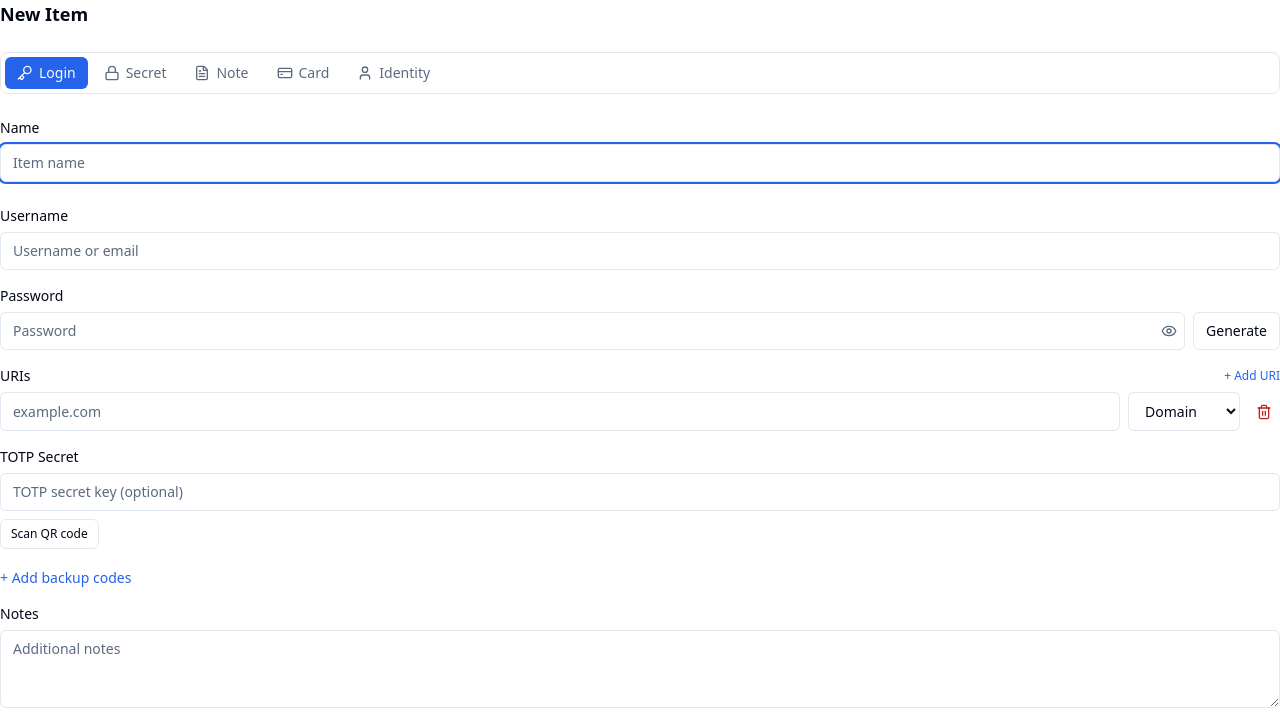
Test: VaultItemForm — login payload › rejects a URI whose scheme is not http/https/mailto
Type "FTP box" into the field with placeholder "Item name".
click(640, 163); type("FTP box")  # box [0,144,1279,182]
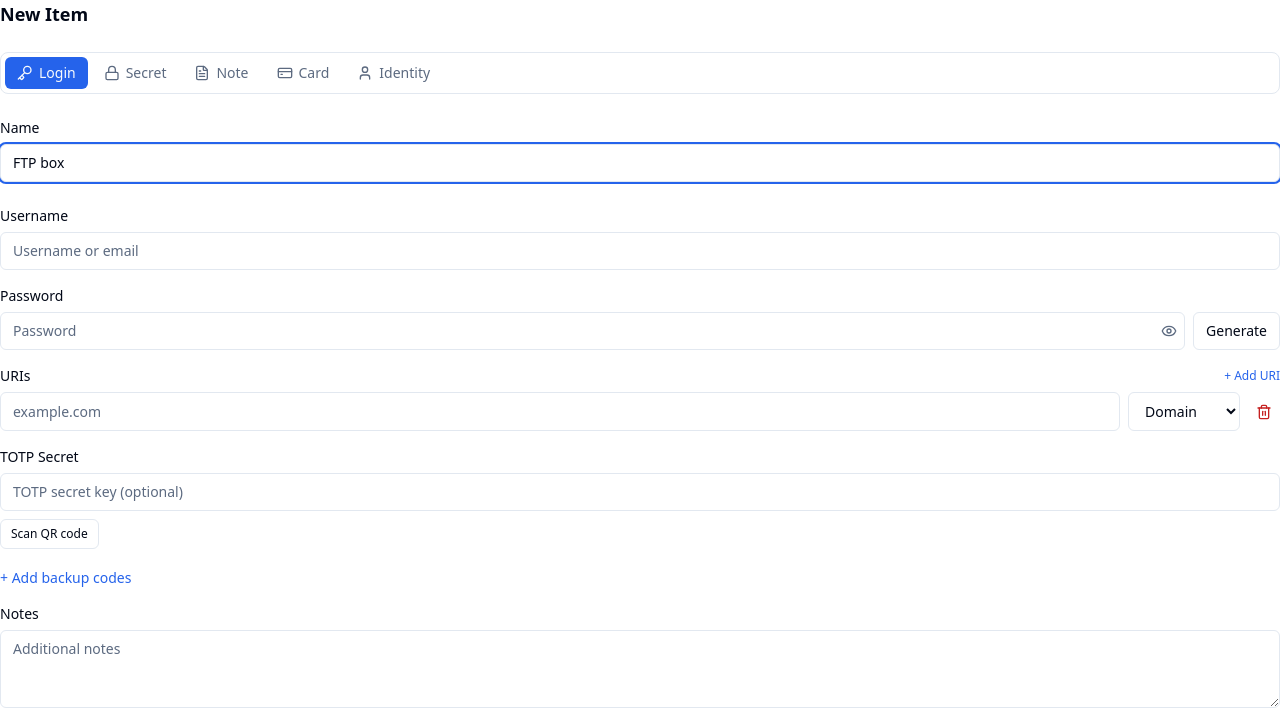
Type "ftp://files.example.com" into the field with placeholder "example.com".
click(560, 412); type("ftp://files.example.com")  # box [0,392,1120,431]
(page scrolled)
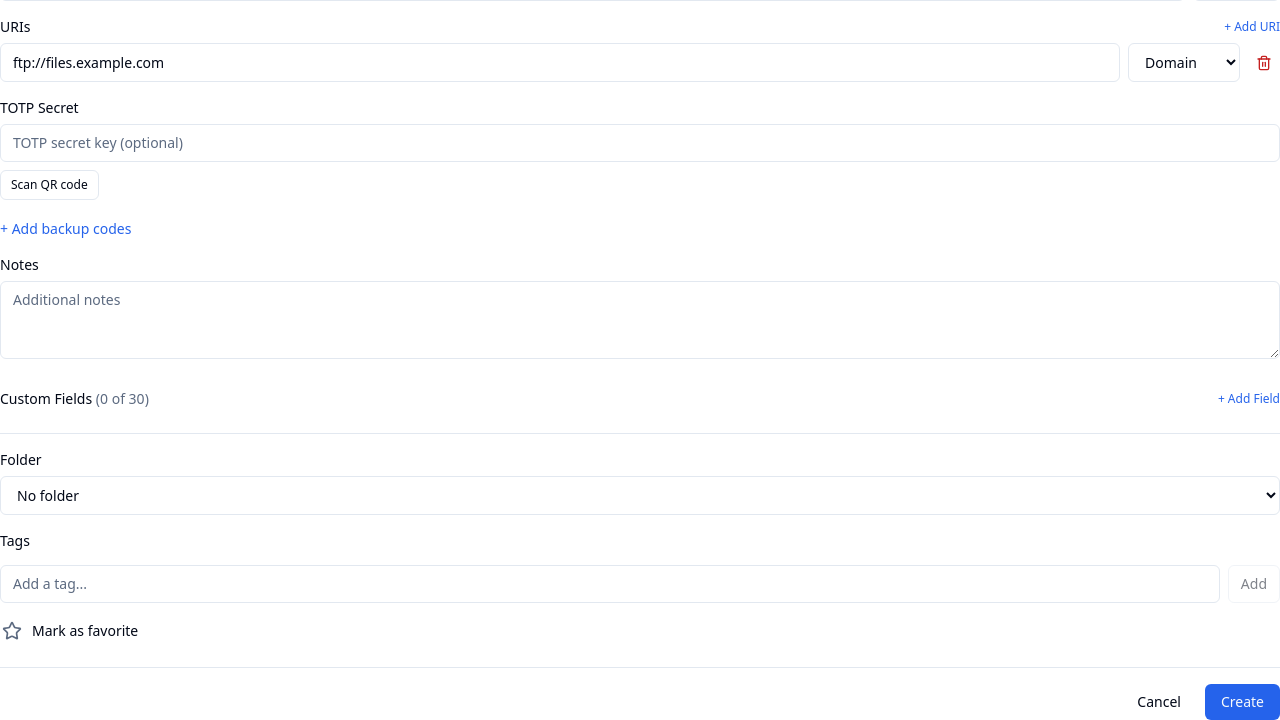
Click the button "Create".
click(1242, 702)  # box [1205,684,1279,719]
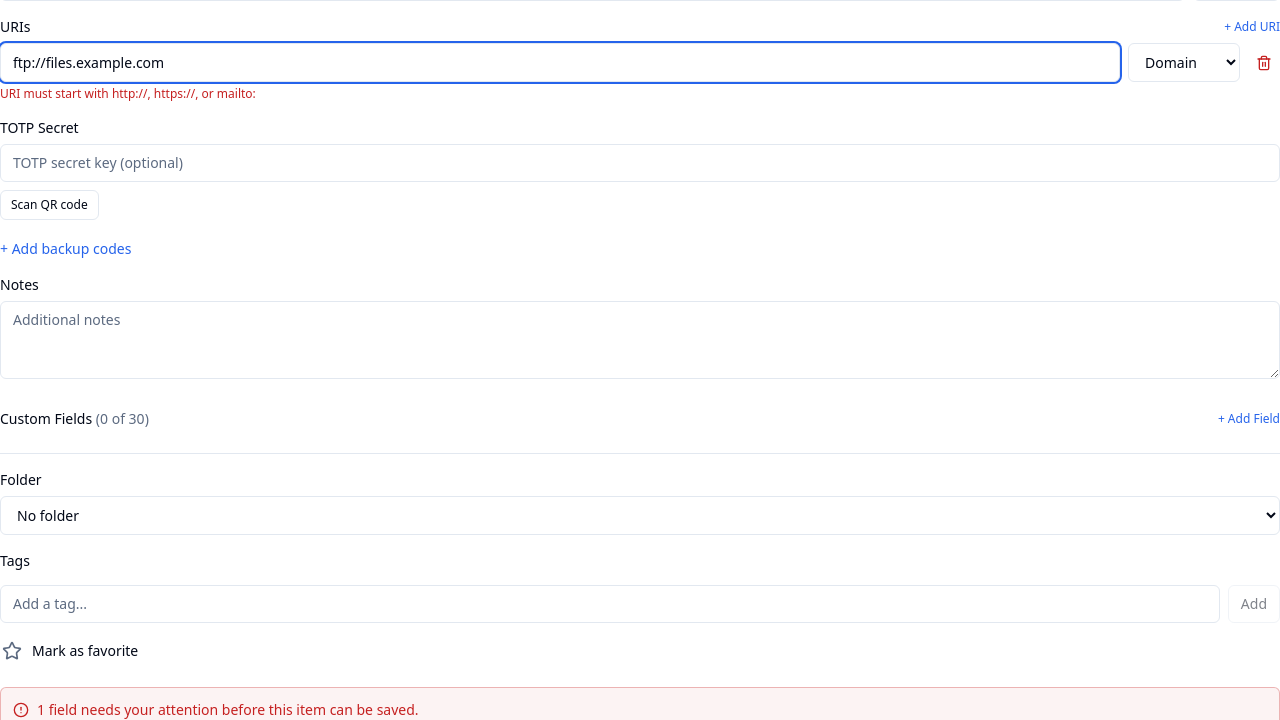
Result: the text "URI must start with http://, https://, or mailto:" is shown at [0,85,256,102]
